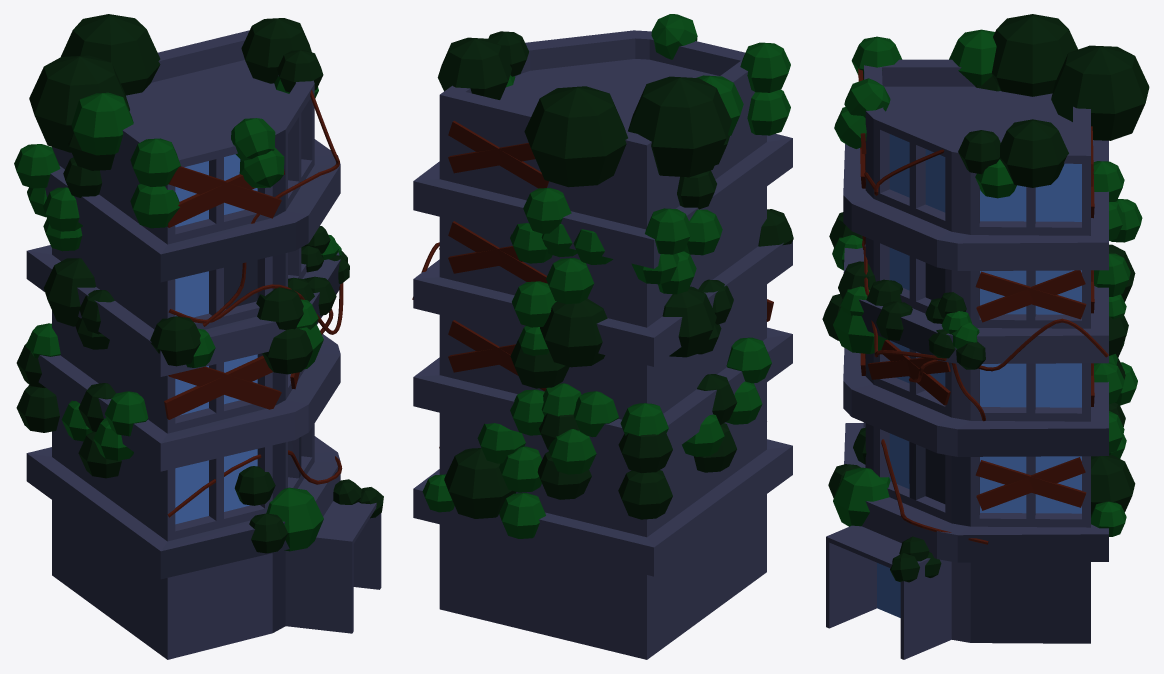
File: Building_Apartment_Deserted_0.FBX
3 renders of one model, left to right at view 1: azimuth 30°, elevation 25°; view 2: azimuth 150°, elevation 25°; view 3: azimuth 270°, elevation 25°, orthographic. The views are drawn at different scales.
Visible parts, largest first — view 1: Box001; view 2: Box001; view 3: Box001.
Part boxes in pixels (x1,y1,x2,y2): Box001: [14, 14, 383, 659]; Box001: [412, 14, 793, 659]; Box001: [822, 14, 1149, 659].
Size of the model in its own units: 7248 by 7401 by 13263.
